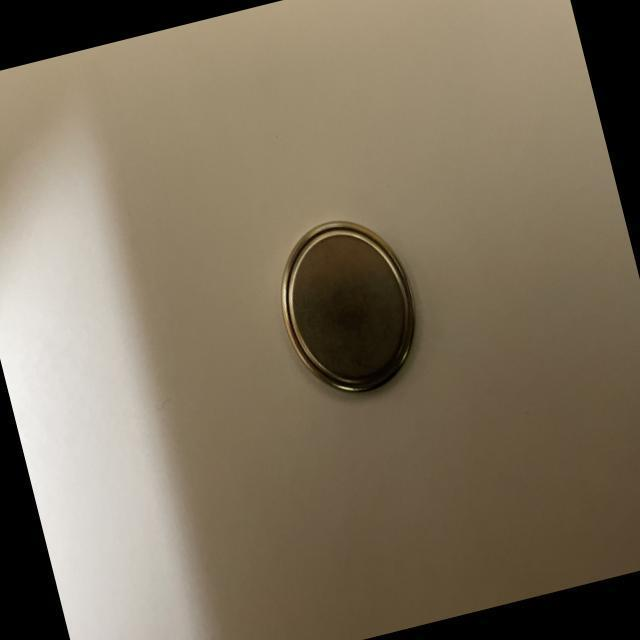COIN: (264, 205, 432, 410)
